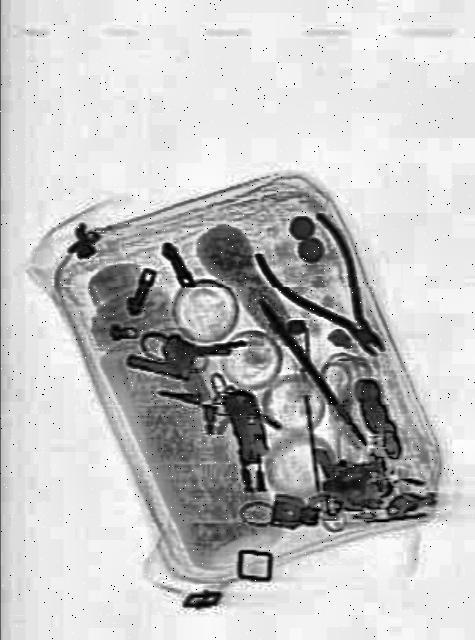Pliers: (248, 194, 408, 390)
